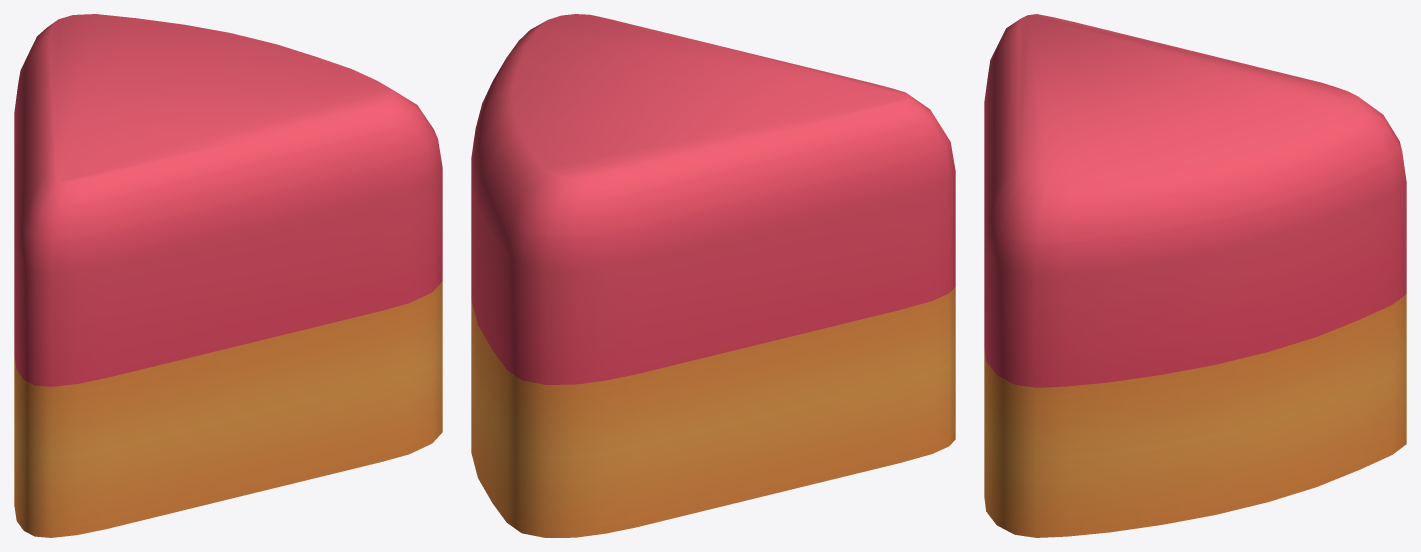
Rendered from cake07_slice.FBX.
3 renders of one model, left to right at view 1: azimuth 30°, elevation 25°; view 2: azimuth 150°, elevation 25°; view 3: azimuth 270°, elevation 25°, orthographic.
Visible parts, largest first — view 1: cake07_slice; view 2: cake07_slice; view 3: cake07_slice.
Boxes of the visible parts, left/top/right/bottom form: cake07_slice: left=14, top=14, right=442, bottom=537; cake07_slice: left=471, top=14, right=955, bottom=537; cake07_slice: left=984, top=14, right=1406, bottom=537.
Bounding box in the file's own units: 0.00904 × 0.00692 × 0.00788.
